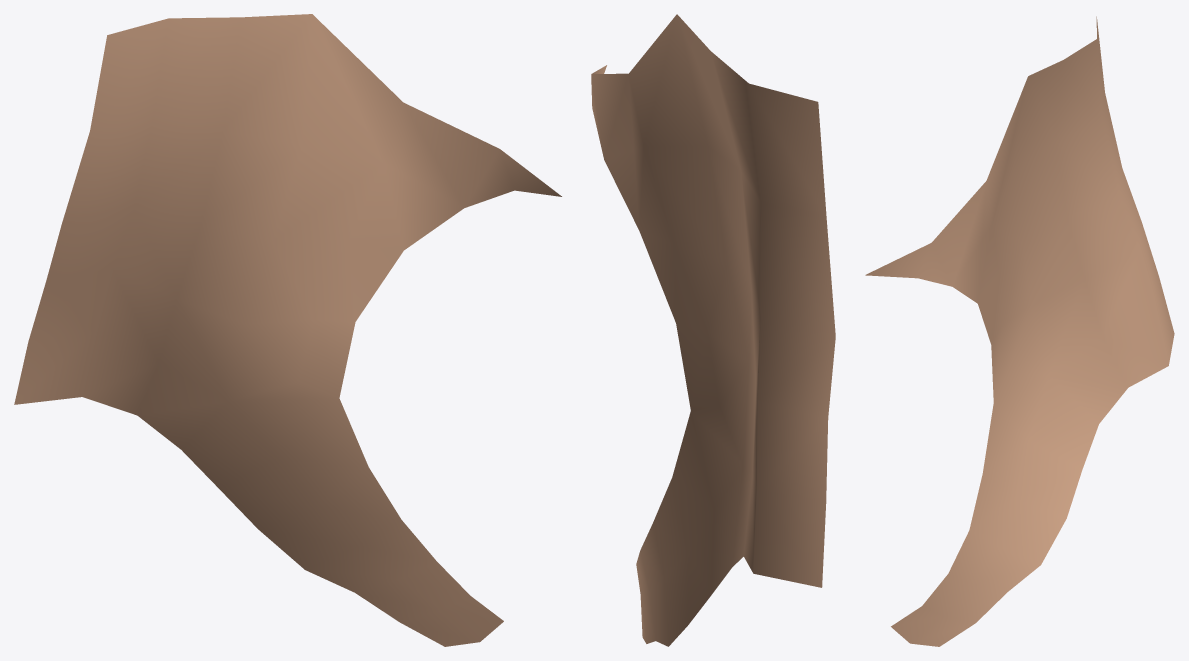
File: lateral-retromalleolar-region-l.glb
3 views of the same model, side by side, from view 1: azimuth 30°, elevation 25°; view 2: azimuth 150°, elevation 25°; view 3: azimuth 270°, elevation 25° (orthographic). The views are drawn at different scales.
Parts seen in each view (by area): view 1: Lateral retromalleolar region.l; view 2: Lateral retromalleolar region.l; view 3: Lateral retromalleolar region.l.
Part boxes in pixels (x1,y1,x2,y2): Lateral retromalleolar region.l: [14, 14, 561, 646]; Lateral retromalleolar region.l: [591, 14, 835, 646]; Lateral retromalleolar region.l: [865, 16, 1174, 646].
Bounding box in the file's own units: 0.0485 × 0.077 × 0.0404.
